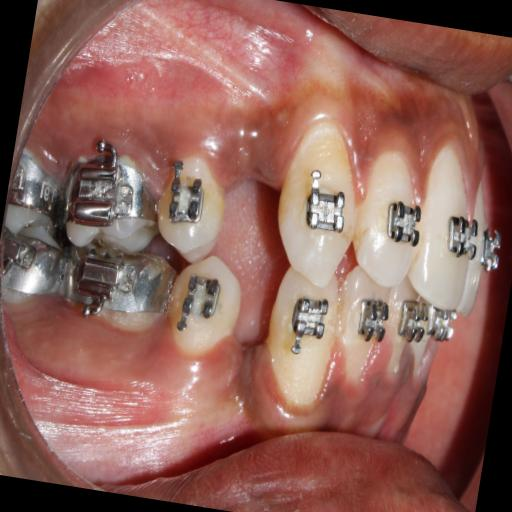correct_brace: (150, 152, 230, 261), (300, 177, 350, 239), (380, 190, 425, 250), (440, 208, 482, 268)
incorrect_brace: (346, 148, 431, 291), (163, 170, 209, 234)
